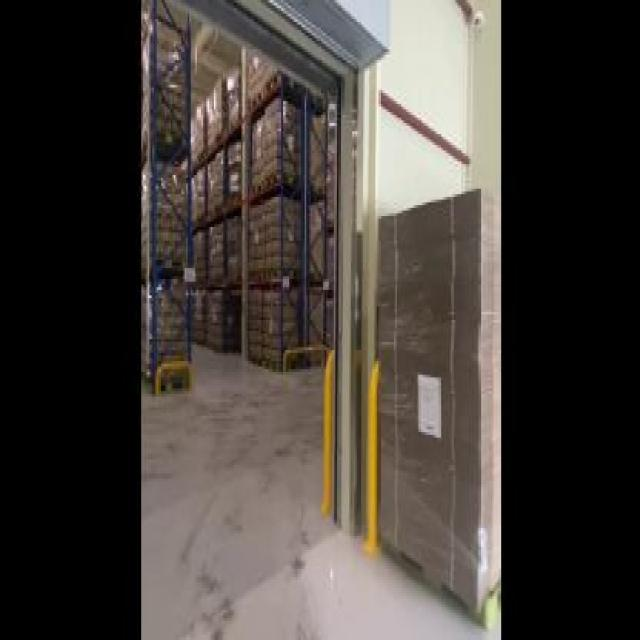box: (380, 202, 502, 632), (246, 52, 326, 364), (138, 11, 194, 388), (192, 84, 242, 356)
